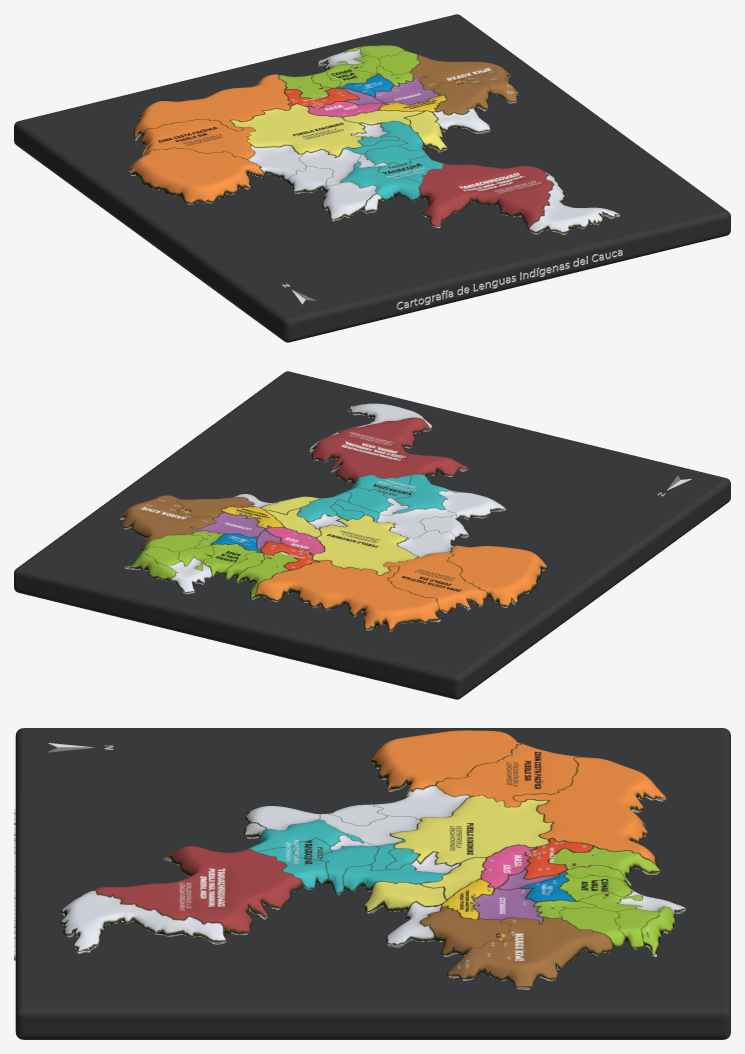
File: maqueta-cauca.glb
3 views of the same model, one above another, from view 1: azimuth 30°, elevation 25°; view 2: azimuth 150°, elevation 25°; view 3: azimuth 270°, elevation 25° (orthographic). The views are drawn at different scales.
Visible parts, largest first — view 1: Pedestal, Maqueta_Mapa, Titulo_Maqueta_malla; view 2: Pedestal, Maqueta_Mapa; view 3: Pedestal, Maqueta_Mapa.
Boxes of the visible parts, bbox=[...] form: Pedestal: bbox=[14, 14, 730, 342]; Maqueta_Mapa: bbox=[128, 45, 620, 234]; Titulo_Maqueta_malla: bbox=[396, 250, 622, 309]; Pedestal: bbox=[14, 371, 730, 699]; Maqueta_Mapa: bbox=[118, 403, 547, 631]; Pedestal: bbox=[15, 728, 730, 1039]; Maqueta_Mapa: bbox=[60, 730, 686, 989].
Size of the model in its own units: 10.55 by 0.9297 by 11.22.
5 materials, 1 textured.
